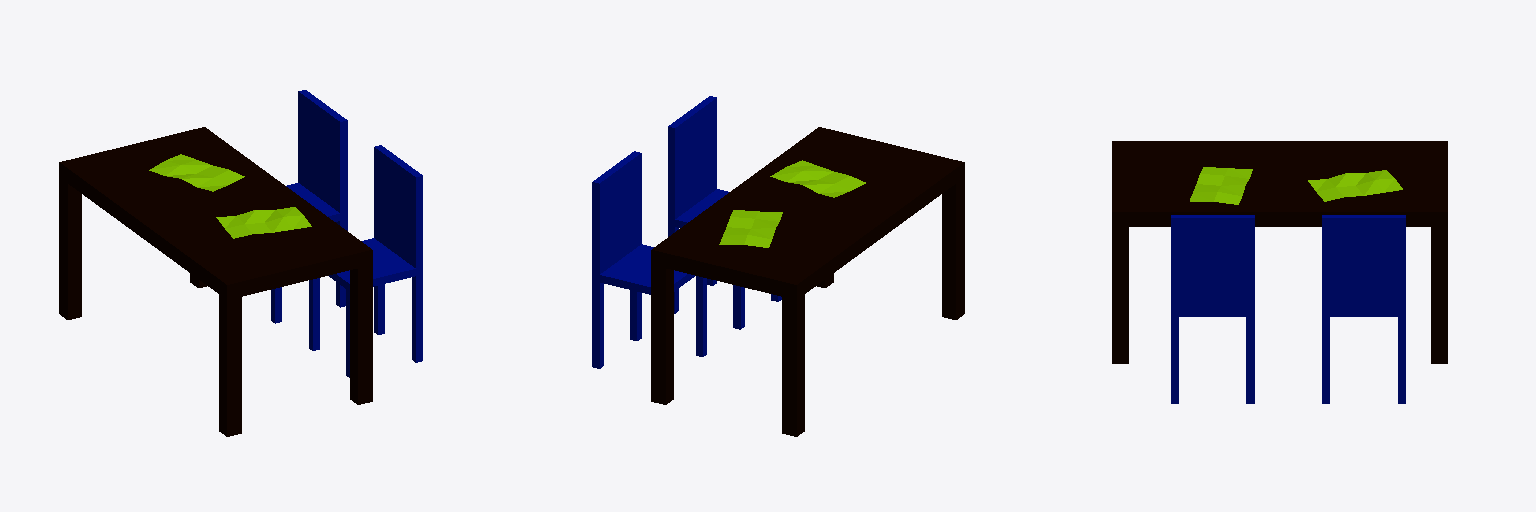
File: PaintingTable.obj
The picture shows the model from 3 angles: view 1: azimuth 30°, elevation 25°; view 2: azimuth 150°, elevation 25°; view 3: azimuth 270°, elevation 25°; orthographic projection.
Parts seen in each view (by area): view 1: Table, Chair.001, Chair, Painting.001, Painting; view 2: Table, Chair, Chair.001, Painting.001, Painting; view 3: Table, Chair.001, Chair, Painting, Painting.001.
Part boxes in pixels (bbox=[...]): Table: bbox=[59, 127, 372, 436]; Chair.001: bbox=[309, 145, 422, 377]; Chair: bbox=[271, 90, 347, 323]; Painting.001: bbox=[216, 207, 311, 238]; Painting: bbox=[149, 154, 244, 191]; Table: bbox=[651, 127, 964, 436]; Chair: bbox=[592, 151, 706, 368]; Chair.001: bbox=[668, 96, 781, 329]; Painting.001: bbox=[770, 160, 865, 197]; Painting: bbox=[719, 210, 782, 247]; Table: bbox=[1112, 141, 1447, 363]; Chair.001: bbox=[1171, 215, 1254, 403]; Chair: bbox=[1322, 215, 1405, 403]; Painting: bbox=[1308, 170, 1402, 201]; Painting.001: bbox=[1190, 167, 1252, 204].
Size of the model in its own units: 1.55 by 1.22 by 2.